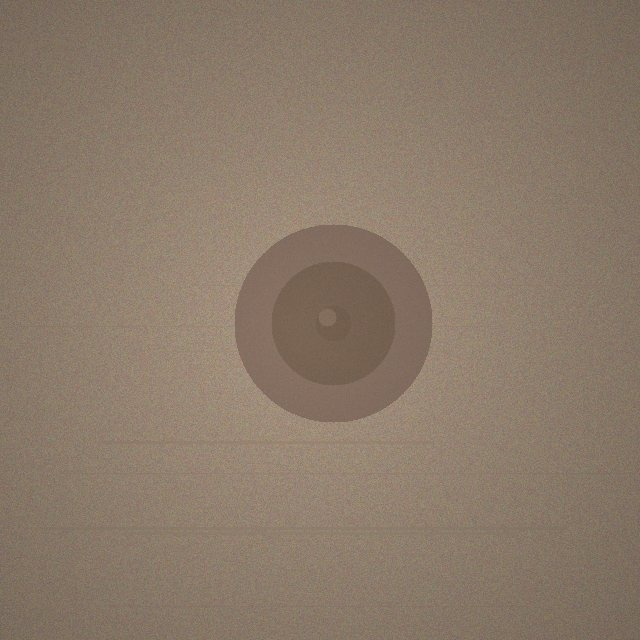good: (234, 224, 432, 422)
